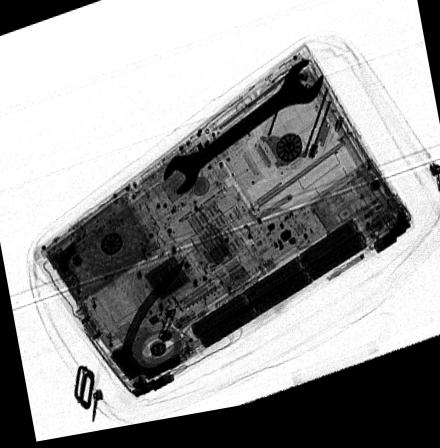Wrench: (162, 67, 326, 203)
